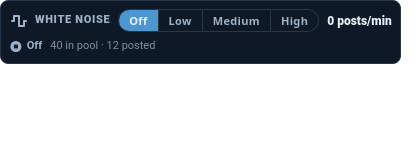
Scenario: NoiseControl (live) › shows a failed change as text and falls back to the server level
What coordinates should you click on to do the following:
click the radio button labelled "Low"
I would click on:
 (180, 20)
Its box is [158,10,202,31].
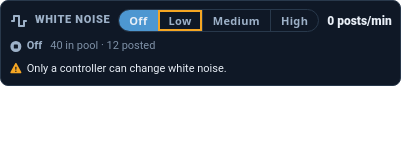
Expected: the message "Only a controller can change white noise." is shown, [9,62,227,74]
